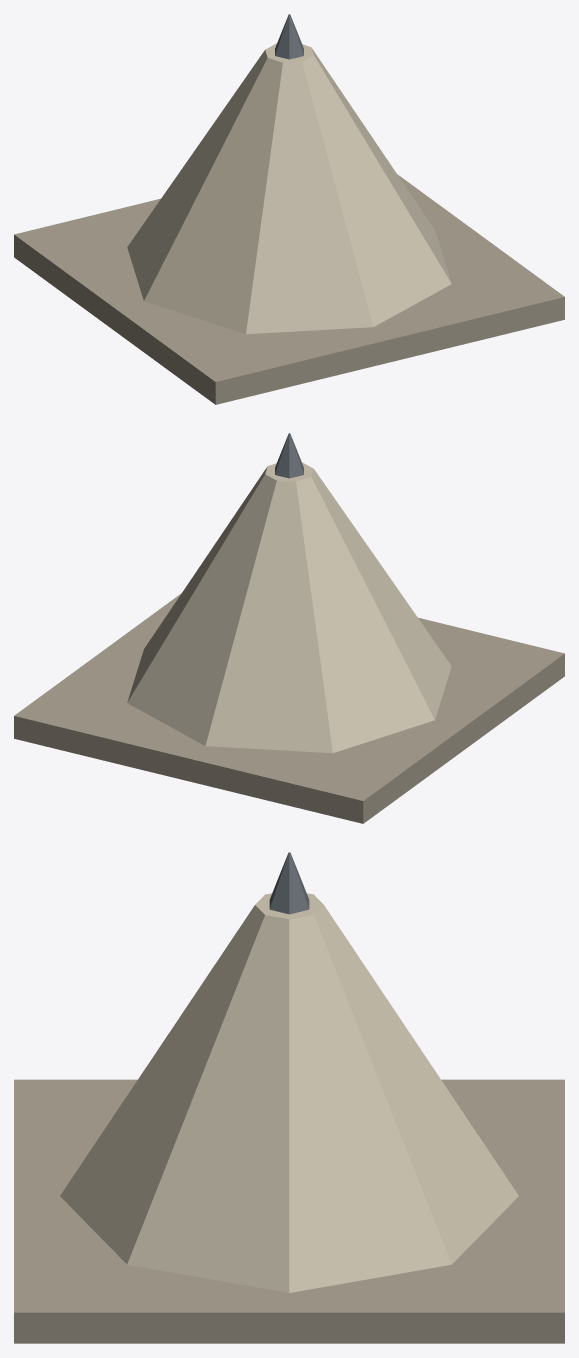
Rendered from tw_landmark_spire_lod1.glb.
3 views of the same model, one above another, from view 1: azimuth 30°, elevation 25°; view 2: azimuth 150°, elevation 25°; view 3: azimuth 270°, elevation 25° (orthographic). The views are drawn at different scales.
Parts seen in each view (by area): view 1: tw_landmark_spire_lod1; view 2: tw_landmark_spire_lod1; view 3: tw_landmark_spire_lod1.
Boxes of the visible parts, box(x1,y1,x2,y2) form: tw_landmark_spire_lod1: box(14, 14, 564, 404); tw_landmark_spire_lod1: box(14, 433, 564, 823); tw_landmark_spire_lod1: box(14, 852, 564, 1343).
Bounding box in the file's own units: 24 × 18 × 24.
Materials: 2 (2 with a texture image).
